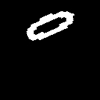chain: (27, 11, 73, 39)
